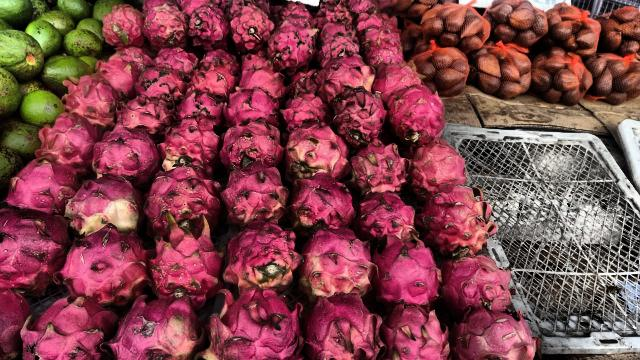buah-naga-belum-matang: (200, 288, 302, 360), (108, 294, 205, 360), (416, 185, 498, 255), (62, 177, 148, 241), (218, 219, 294, 291), (447, 307, 545, 360), (298, 231, 372, 297), (216, 158, 288, 224), (280, 125, 350, 183), (155, 115, 219, 171), (313, 53, 377, 99), (62, 76, 116, 126), (139, 6, 189, 50)
buah-naga-matang: (146, 220, 224, 304), (62, 231, 150, 304), (21, 294, 118, 360), (299, 292, 385, 360), (1, 208, 72, 290), (370, 230, 444, 308), (142, 166, 222, 234), (3, 153, 78, 216), (377, 298, 453, 360), (438, 253, 510, 314), (352, 185, 422, 246), (401, 134, 467, 198), (286, 172, 356, 232), (384, 81, 446, 145), (95, 124, 162, 182), (39, 112, 100, 172), (346, 142, 408, 194), (113, 92, 175, 138), (334, 89, 384, 143), (268, 24, 316, 71), (226, 89, 278, 131), (133, 62, 187, 102), (92, 55, 138, 101), (280, 94, 332, 132), (173, 92, 224, 130), (230, 6, 272, 52), (190, 4, 230, 52), (238, 66, 288, 104), (102, 4, 144, 48), (368, 61, 424, 92), (185, 62, 233, 98), (360, 28, 402, 68), (320, 31, 362, 64), (287, 70, 323, 99)
